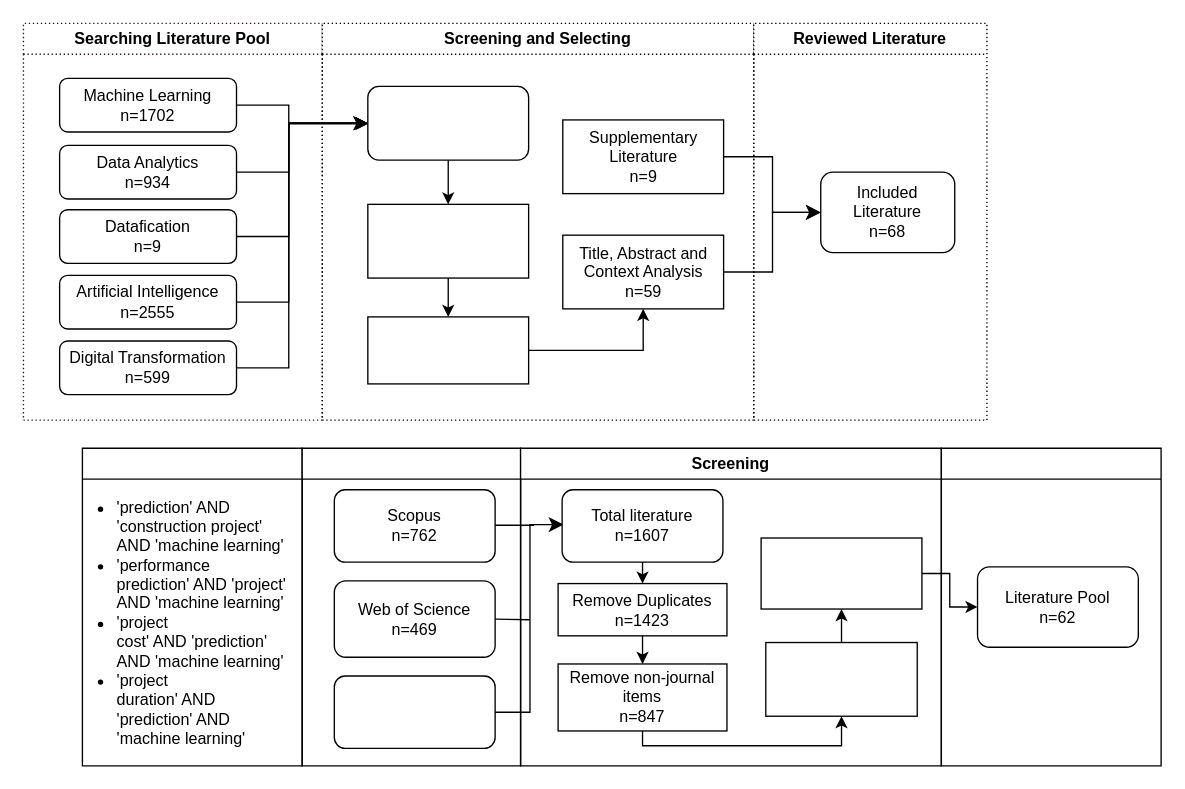
This 1185x789 diagram has some shape labels left out. Each missing label, with the box of its shape:
Body of Literature: (940, 447, 1161, 766)
IEEE n=403: (333, 675, 495, 748)
Inclusion and Exclusion Criteria n=247: (366, 316, 529, 384)
Inclusion and Exclusion Criteria n=89: (764, 641, 917, 716)
Remove Duplicates n=4402: (366, 203, 529, 278)
Search Terms: (81, 447, 302, 766)
Searching the Literature: (301, 447, 521, 766)
Title, Abstract and Context Analysis n=62: (760, 537, 922, 609)
Total Literature n=5772: (366, 85, 529, 160)
